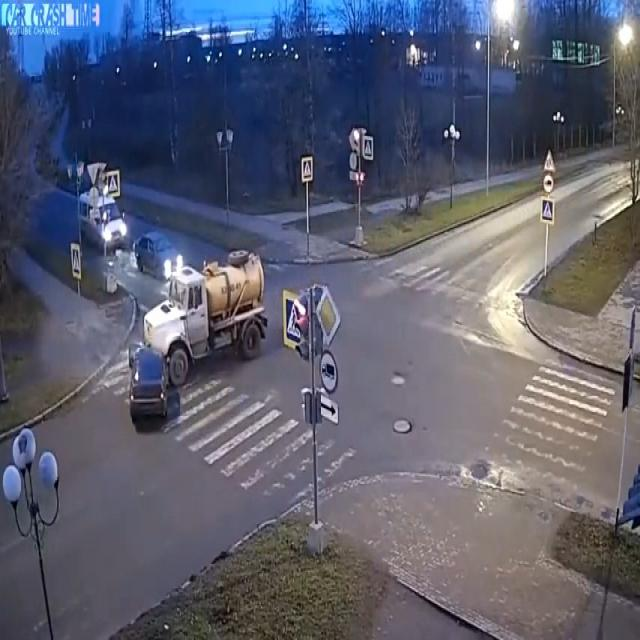Accident: (134, 252, 260, 435)
